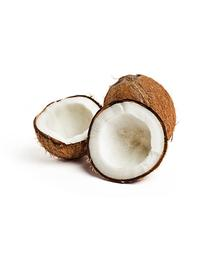coconut: (86, 101, 168, 184), (104, 75, 176, 147), (31, 95, 105, 162)
